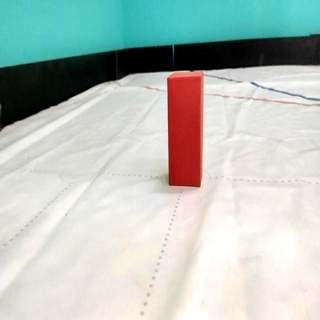redbox: (167, 71, 204, 187)
